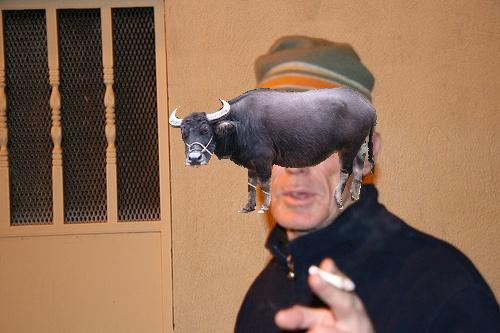tampered: (170, 88, 377, 213)
